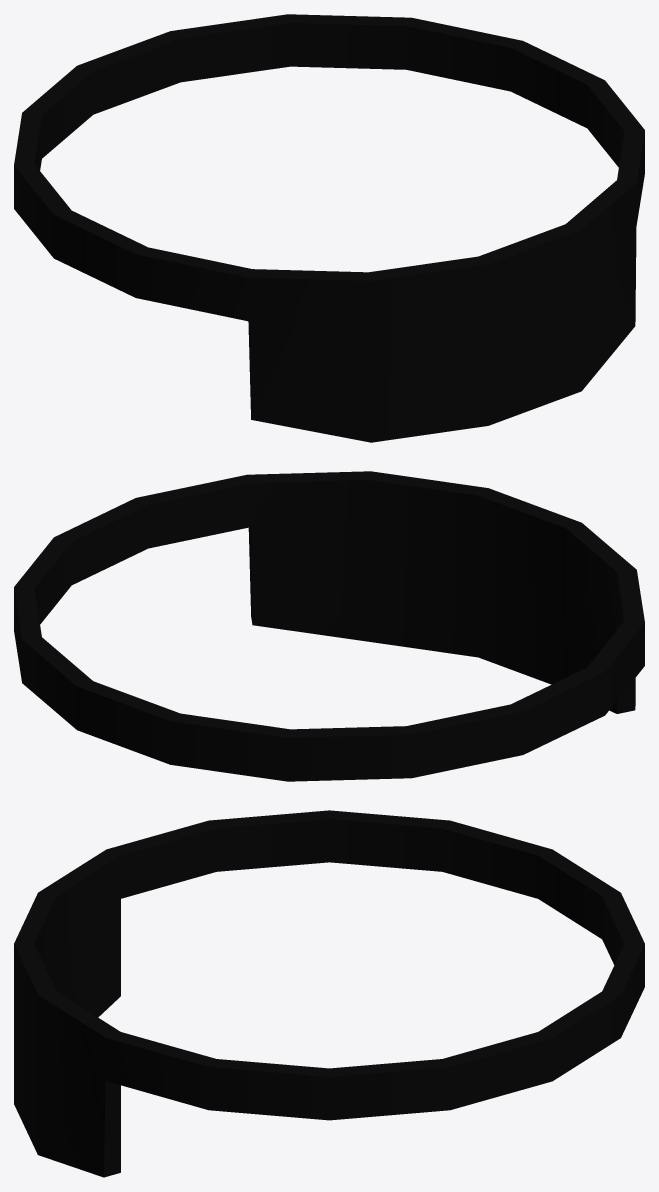
The model's file is Body_Prop_Cooking_Apron_Bib_01_C03.fbx.
3 views of the same model, one above another, from view 1: azimuth 30°, elevation 25°; view 2: azimuth 150°, elevation 25°; view 3: azimuth 270°, elevation 25° (orthographic).
Visible parts, largest first — view 1: Body_Prop_Cooking_Apron_Bib_01_C03; view 2: Body_Prop_Cooking_Apron_Bib_01_C03; view 3: Body_Prop_Cooking_Apron_Bib_01_C03.
Part boxes in pixels (bbox=[...]): Body_Prop_Cooking_Apron_Bib_01_C03: bbox=[14, 14, 644, 442]; Body_Prop_Cooking_Apron_Bib_01_C03: bbox=[14, 471, 644, 781]; Body_Prop_Cooking_Apron_Bib_01_C03: bbox=[14, 810, 644, 1177].
Size of the model in its own units: 102 by 28.62 by 102.
